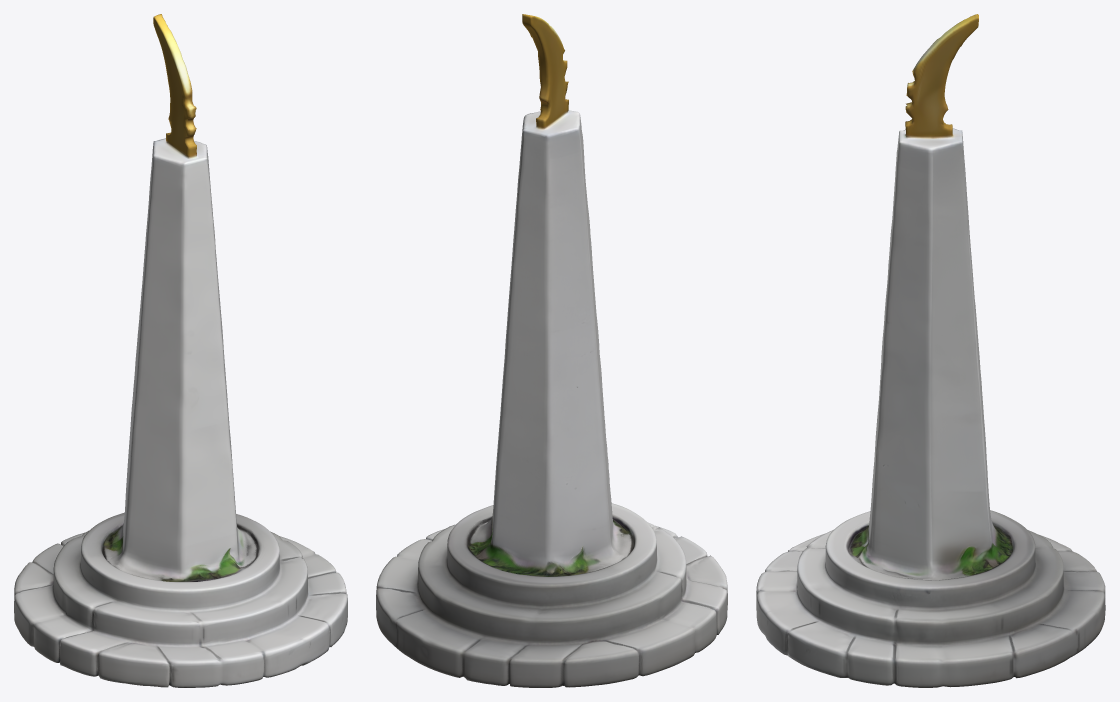
File: tugu_kujang_hd.glb
The picture shows the model from 3 angles, left to right: view 1: azimuth 30°, elevation 25°; view 2: azimuth 150°, elevation 25°; view 3: azimuth 270°, elevation 25°; orthographic projection. The views are drawn at different scales.
Parts seen in each view (by area): view 1: model; view 2: model; view 3: model.
Part boxes in pixels (x1,y1,x2,y2): model: (14, 14, 347, 687); model: (376, 14, 727, 687); model: (756, 14, 1105, 687).
Size of the model in its own units: 0.8967 by 1.75 by 0.9201.
1 material, 1 textured.
